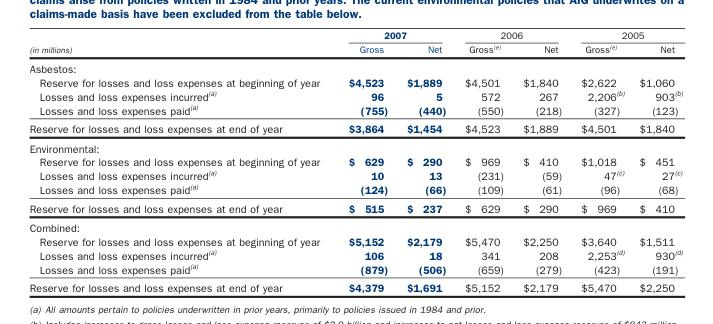table: (28, 29, 681, 293)
table column: (28, 29, 333, 293), (333, 29, 396, 293), (570, 29, 631, 293), (396, 29, 454, 293), (454, 29, 512, 293), (512, 29, 570, 293), (631, 29, 681, 293)
table column header: (28, 29, 681, 58)
table projected row header: (28, 58, 681, 75), (28, 137, 681, 154), (28, 217, 681, 234)
table row: (28, 118, 681, 137), (28, 198, 681, 217), (28, 41, 681, 58), (28, 58, 681, 75), (28, 137, 681, 154), (28, 181, 681, 198), (28, 217, 681, 234), (28, 102, 681, 118), (28, 261, 681, 277), (28, 277, 681, 293), (28, 88, 681, 102), (28, 167, 681, 181), (28, 247, 681, 261), (28, 75, 681, 88), (28, 154, 681, 167), (28, 234, 681, 247), (28, 29, 681, 41)
table spanning cell: (28, 29, 333, 58), (333, 29, 454, 41), (454, 29, 570, 41), (570, 29, 681, 41)
